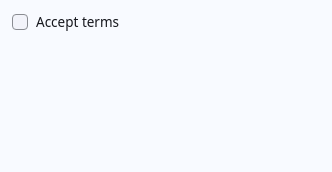
Test: Checkbox › is a labelled native checkbox toggled by clicking its label
Click the text "Accept terms" at (66, 22), box [12,12,119,32]
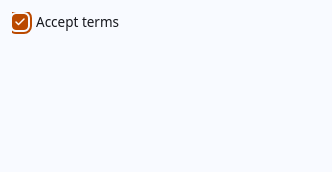
Expected: the checkbox labelled "Accept terms" is checked, [12,14,28,30]
